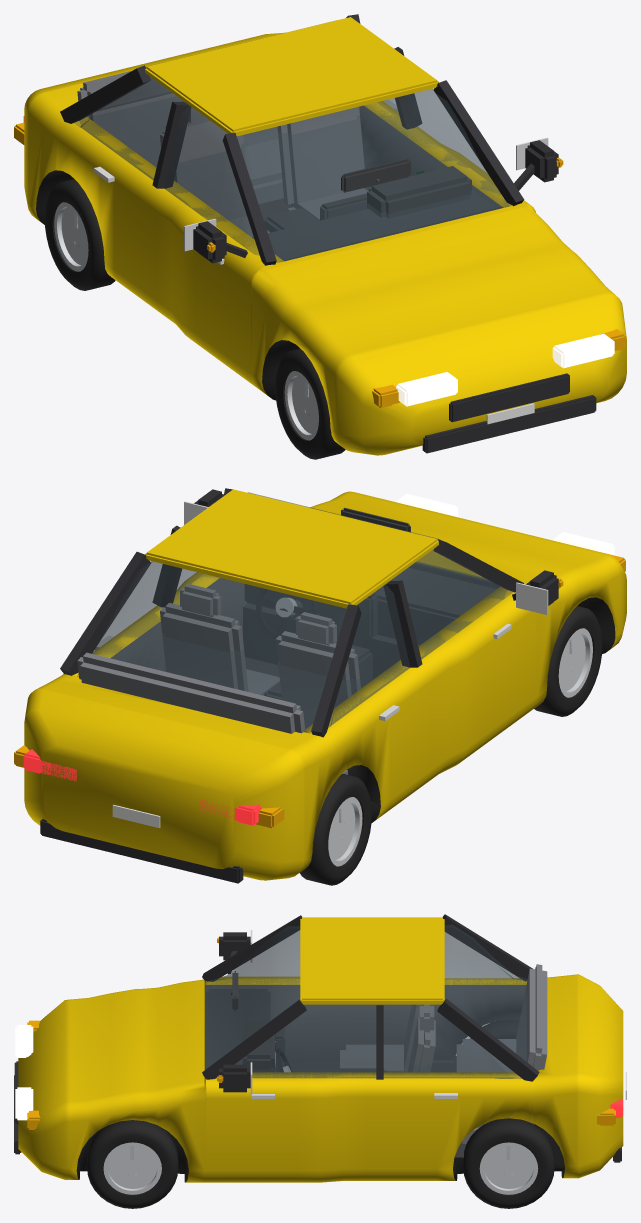
File: sedan.glb
The picture shows the model from 3 angles, top to bottom: view 1: azimuth 30°, elevation 25°; view 2: azimuth 150°, elevation 25°; view 3: azimuth 270°, elevation 25°; orthographic projection. The views are drawn at different scales.
Visible parts, largest first — view 1: Body, Glass, Roof, Int_Seats, Int_Dash, Trim, Pillars, Wheel_RR, Wheel_FR, Head_L, Head_R; view 2: Body, Glass, Int_Seats, Roof, Int_Dash, Pillars, Wheel_RR, Wheel_FR, Trim, SteeringWheel, MirrorGlass_R, Tail_L (+3 smaller); view 3: Body, Glass, Roof, Int_Seats, Pillars, Wheel_RL, Wheel_FL, Int_Dash, Trim, Int_Carpet, Head_R, Head_L (+1 smaller).
Part boxes in pixels (bbox=[...]): Body: bbox=[24, 32, 626, 455]; Glass: bbox=[74, 21, 511, 262]; Roof: bbox=[145, 17, 438, 136]; Int_Seats: bbox=[77, 71, 367, 236]; Int_Dash: bbox=[252, 158, 497, 260]; Trim: bbox=[94, 100, 596, 453]; Pillars: bbox=[60, 14, 524, 265]; Wheel_RR: bbox=[44, 179, 115, 290]; Wheel_FR: bbox=[275, 348, 345, 459]; Head_L: bbox=[552, 333, 614, 368]; Head_R: bbox=[396, 372, 457, 406]; Body: bbox=[24, 491, 626, 880]; Glass: bbox=[77, 492, 512, 732]; Int_Seats: bbox=[77, 584, 360, 774]; Roof: bbox=[145, 489, 438, 608]; Int_Dash: bbox=[243, 507, 495, 699]; Pillars: bbox=[60, 488, 523, 737]; Wheel_RR: bbox=[300, 773, 371, 885]; Wheel_FR: bbox=[534, 606, 602, 716]; Trim: bbox=[40, 489, 558, 883]; SteeringWheel: bbox=[256, 588, 316, 638]; MirrorGlass_R: bbox=[516, 582, 548, 614]; Tail_L: bbox=[23, 749, 76, 781]; Body: bbox=[18, 974, 623, 1182]; Glass: bbox=[205, 924, 527, 1078]; Roof: bbox=[300, 917, 444, 1004]; Int_Seats: bbox=[340, 964, 547, 1143]; Pillars: bbox=[202, 914, 539, 1081]; Wheel_RL: bbox=[463, 1118, 554, 1208]; Wheel_FL: bbox=[87, 1120, 178, 1208]; Int_Dash: bbox=[206, 971, 386, 1071]; Trim: bbox=[14, 932, 626, 1162]; Int_Carpet: bbox=[289, 1056, 534, 1157]; Head_R: bbox=[15, 1025, 33, 1057]; Head_L: bbox=[15, 1087, 33, 1120].
Size of the model in its own units: 2.32 by 1.48 by 4.16.
